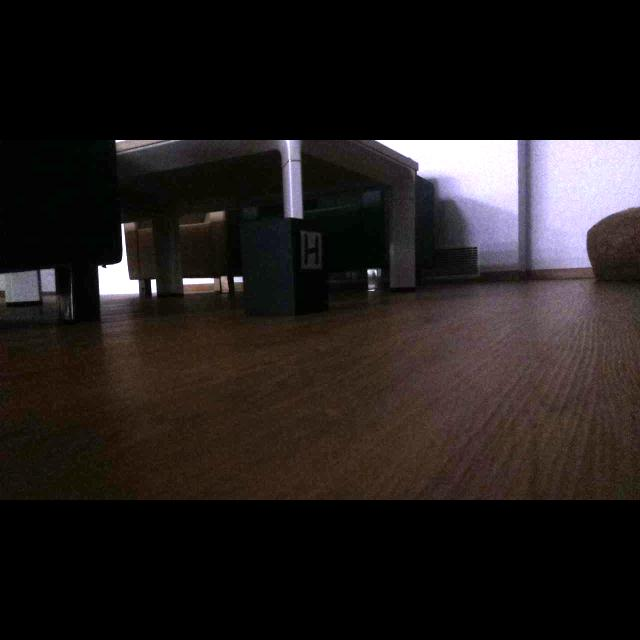H: (304, 234, 319, 264)
